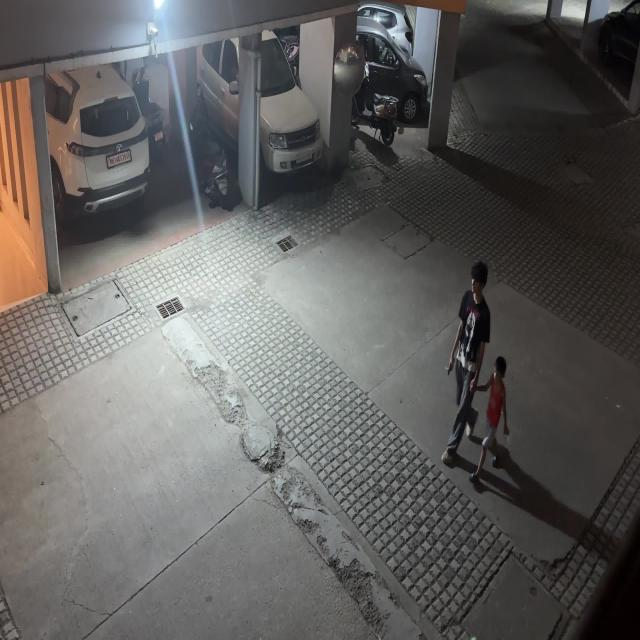garbage_dumping: (501, 422, 514, 453)
